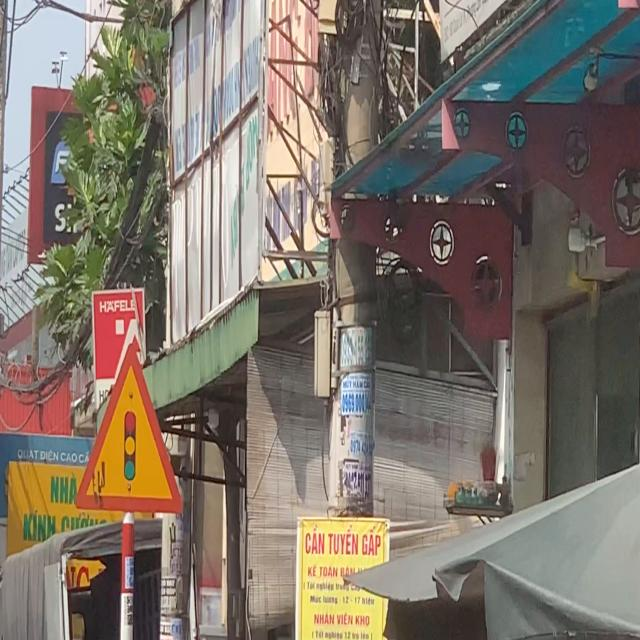Nguy hiem: (65, 328, 187, 524)
